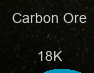Carbon: (12, 11, 88, 62)
